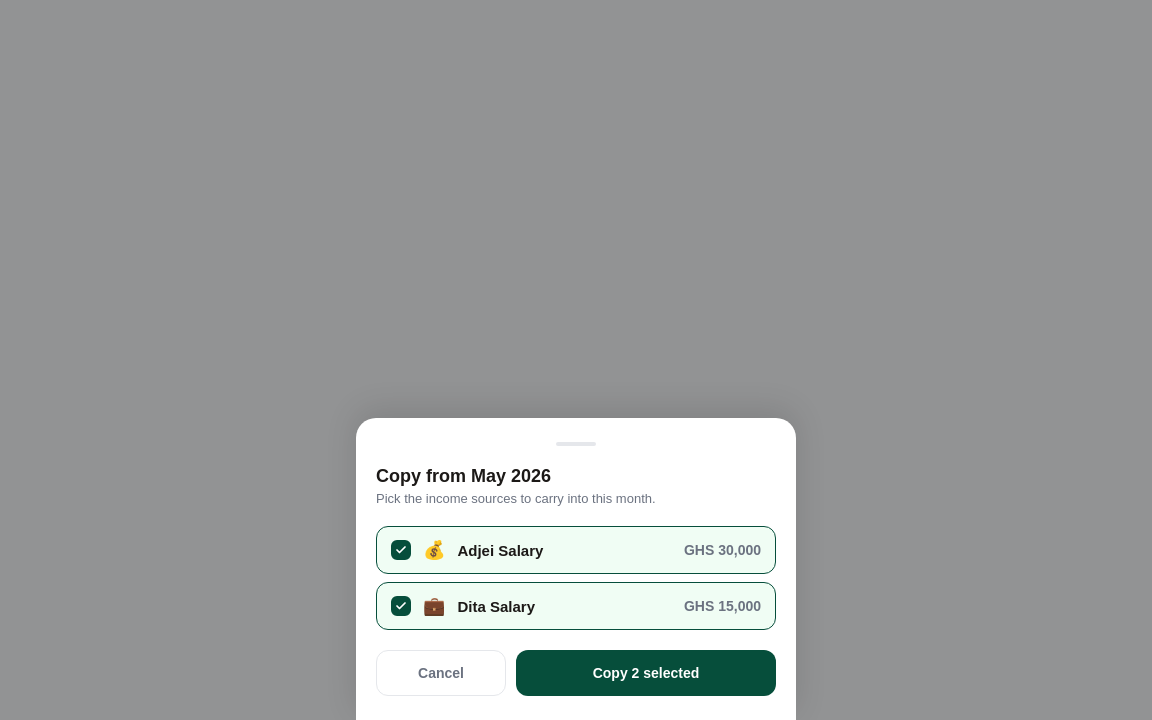
Test: CopyIncomeSheet › updates the count live when a source is de-selected
Click the button with test id "copy-source-inc-2" at (496, 606), box 376,582 -> 776,630
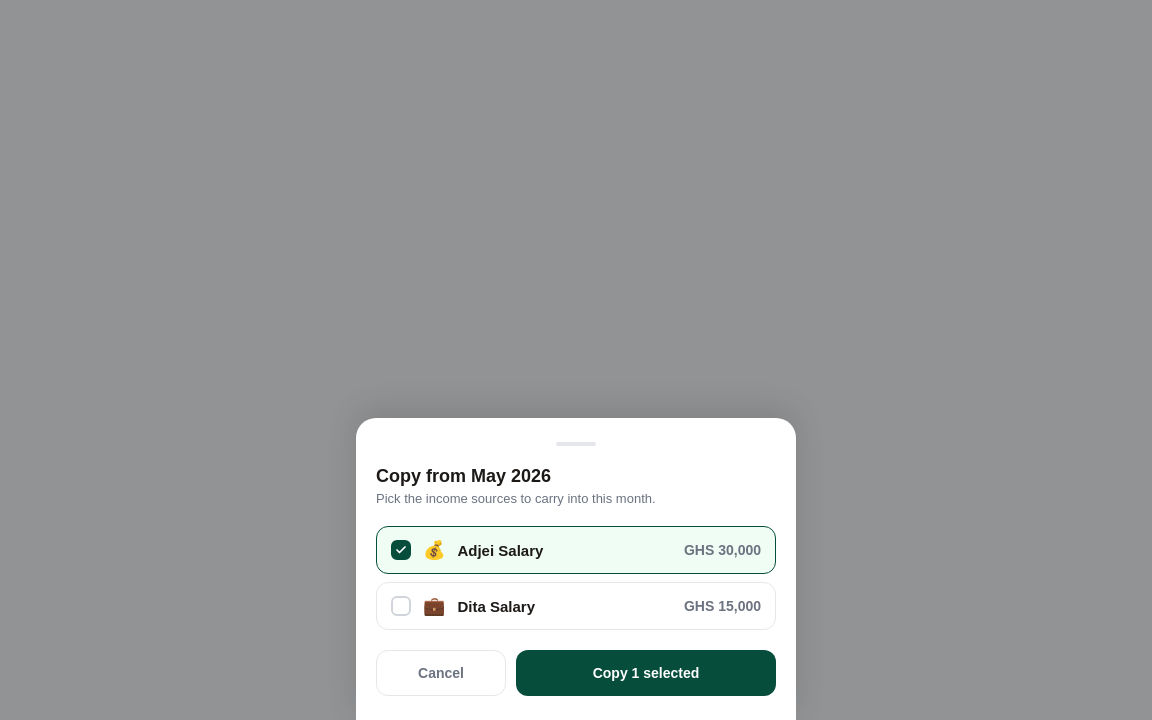
Expected: the button with test id "copy-selected-btn" reads "Copy 1 selected", 516,650 -> 776,696
